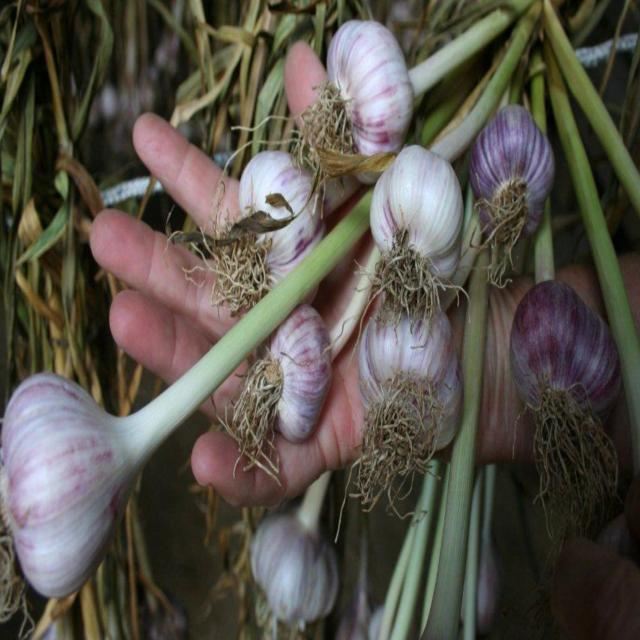Garlic: (0, 308, 216, 639), (457, 27, 595, 288), (500, 280, 625, 562), (344, 280, 467, 539), (211, 284, 361, 477), (193, 126, 344, 312), (352, 117, 487, 321), (320, 9, 469, 182), (216, 454, 347, 640)
